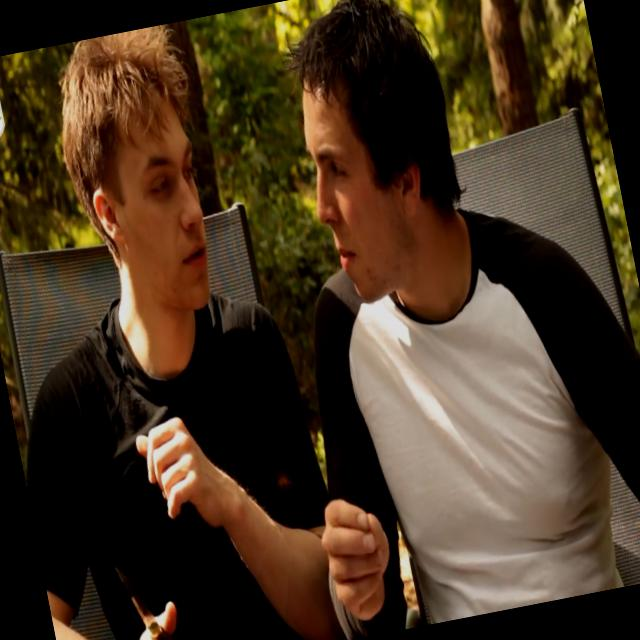knife: (106, 534, 198, 639)
